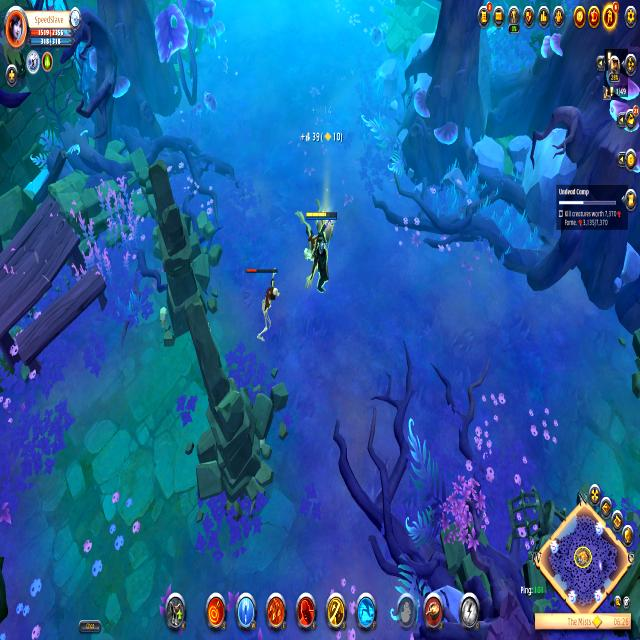ore: (246, 262, 284, 342)
red: (298, 195, 340, 304)
